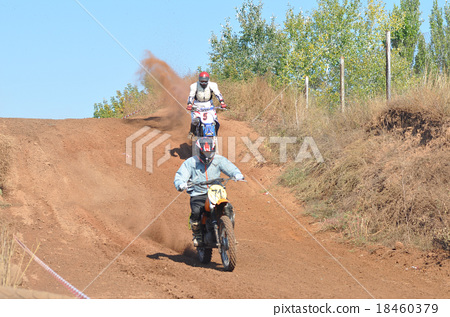helmet: (192, 139, 218, 164), (198, 68, 215, 88)
